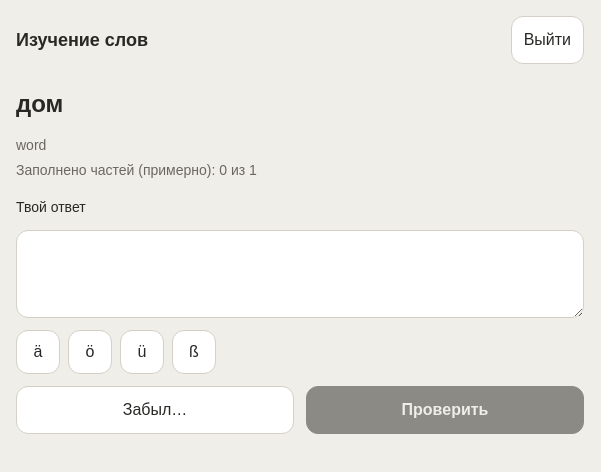
Test: М08 in Learning: one example after the answer by К05-126 / К05-127 (Т16, Т85) › the own example wins over the commons
Step 1. Type "Haus" into the text box → (300, 274), box [16,230,584,318]
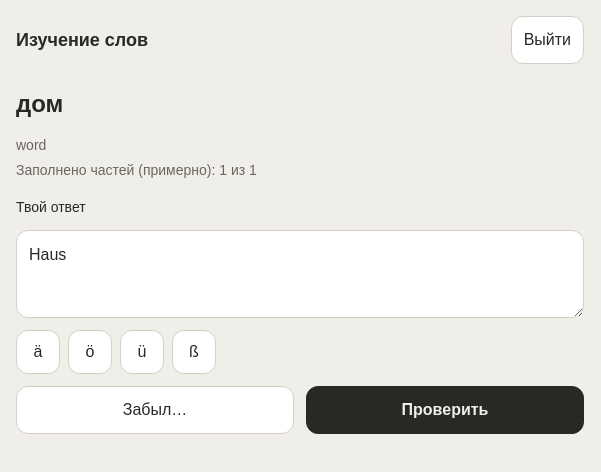
Step 2. Click the button "Проверить" → click(445, 410), box [306,386,584,434]
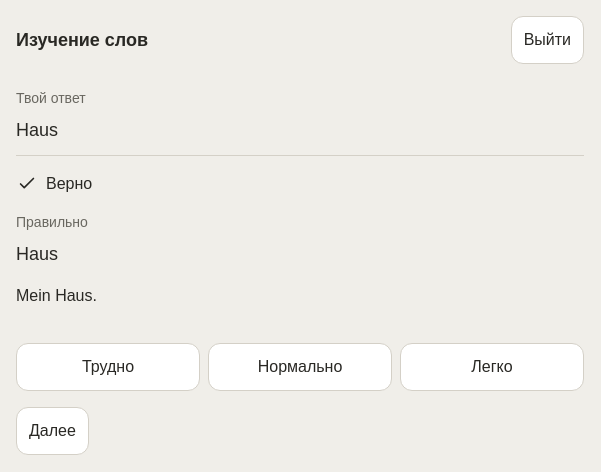
expect the text "Верно" is shown: met, box [16,173,92,195]
